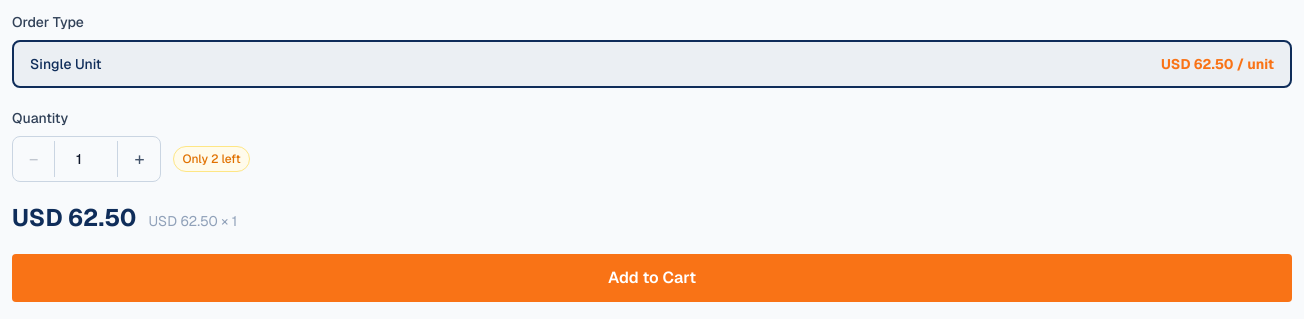
Test: VariantSelector — stock quantity limits › + button becomes disabled when quantity reaches stock limit
The image size is (1304, 319).
Click the button "+": (139, 159) [118, 137, 160, 181]
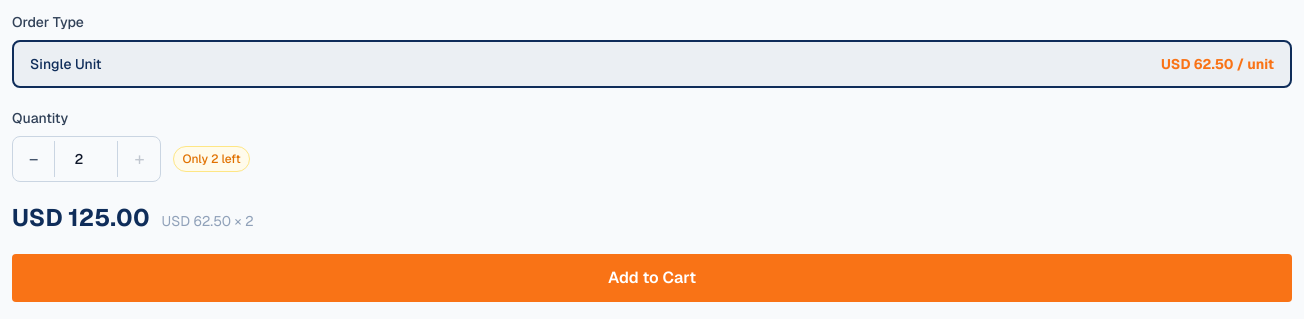
Expected: the button "+" is disabled, [118, 137, 160, 181]
